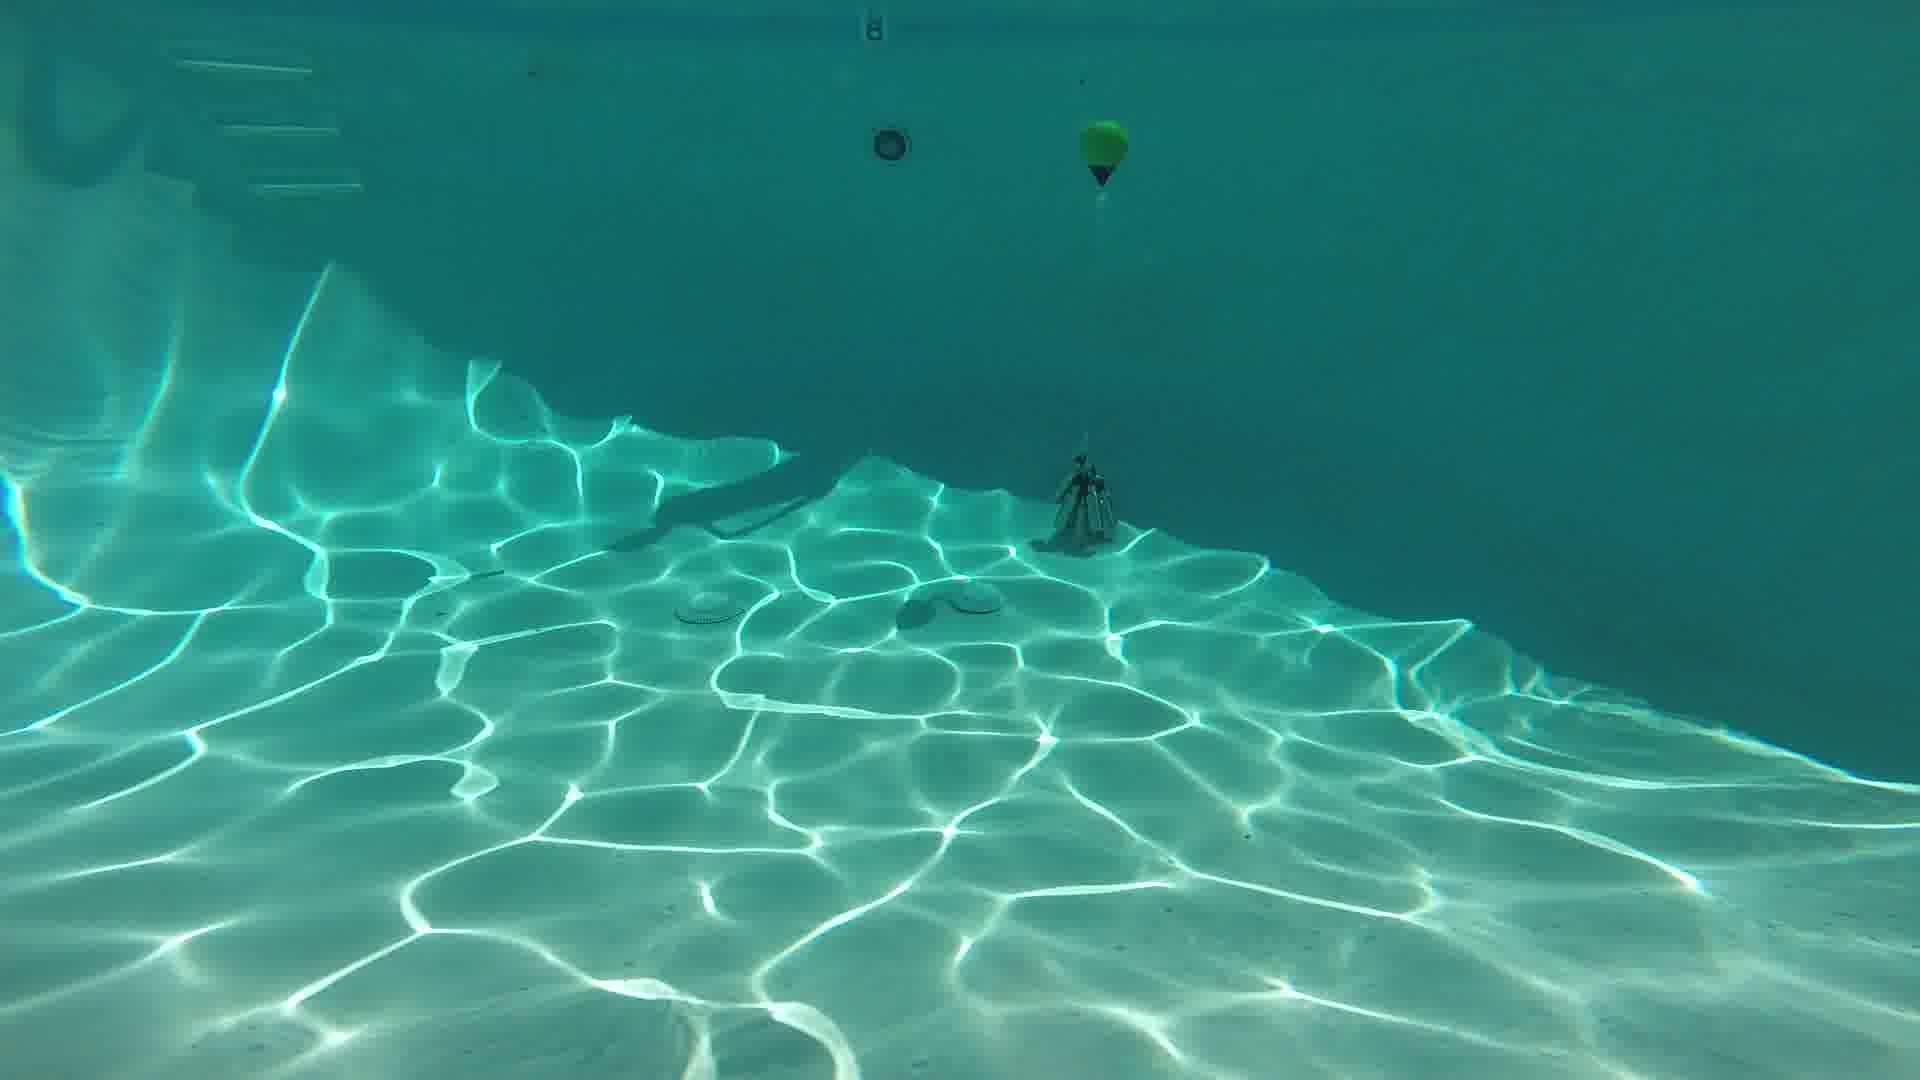yellow_buoy: (1083, 121, 1127, 190)
